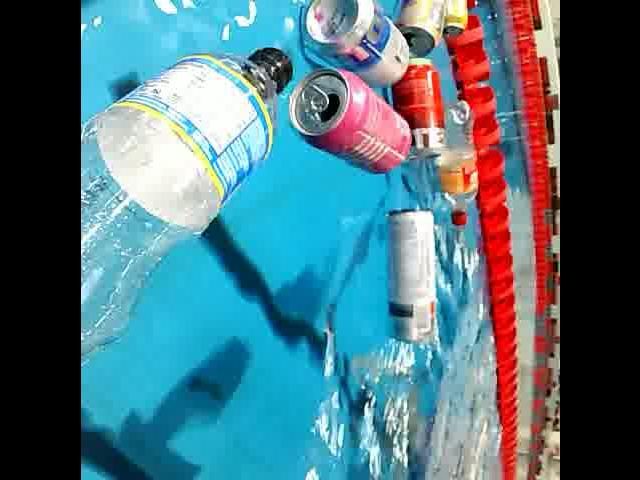Bottle: (80, 46, 298, 376), (434, 92, 479, 232)
Can: (281, 60, 409, 176), (292, 0, 412, 86), (382, 200, 442, 354), (387, 53, 452, 163), (396, 0, 448, 59), (434, 0, 468, 46)
